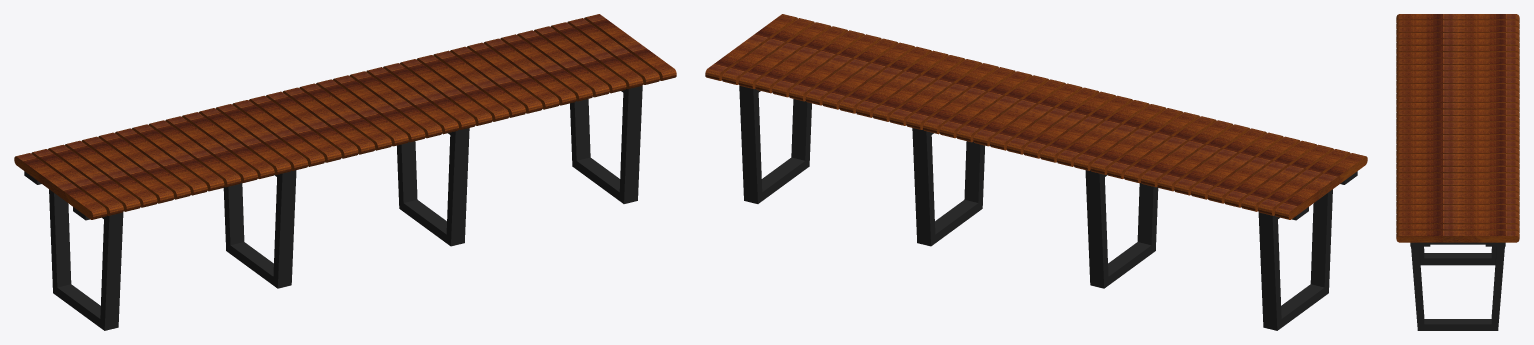
3 views of the same model, side by side, from view 1: azimuth 30°, elevation 25°; view 2: azimuth 150°, elevation 25°; view 3: azimuth 270°, elevation 25° (orthographic). The views are drawn at different scales.
Visible parts, largest first — view 1: mesh1_mesh1-geometry, mesh2_mesh2-geometry; view 2: mesh1_mesh1-geometry, mesh2_mesh2-geometry; view 3: mesh1_mesh1-geometry, mesh2_mesh2-geometry.
Part boxes in pixels (bbox=[...]): mesh1_mesh1-geometry: bbox=[14, 14, 676, 219]; mesh2_mesh2-geometry: bbox=[49, 85, 642, 330]; mesh1_mesh1-geometry: bbox=[705, 14, 1367, 219]; mesh2_mesh2-geometry: bbox=[739, 85, 1332, 330]; mesh1_mesh1-geometry: bbox=[1396, 14, 1519, 242]; mesh2_mesh2-geometry: bbox=[1411, 242, 1504, 330].
Size of the model in its own units: 0.952 by 0.2095 by 0.2232.
